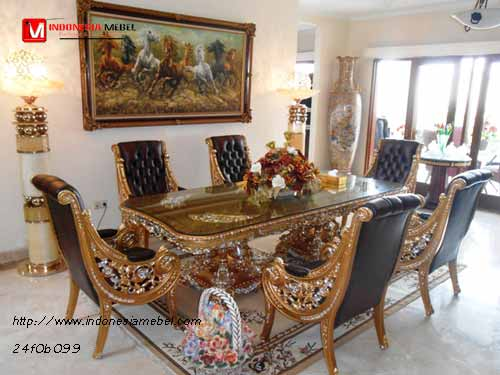Carving Chair: (30, 171, 181, 329), (279, 202, 406, 360)
